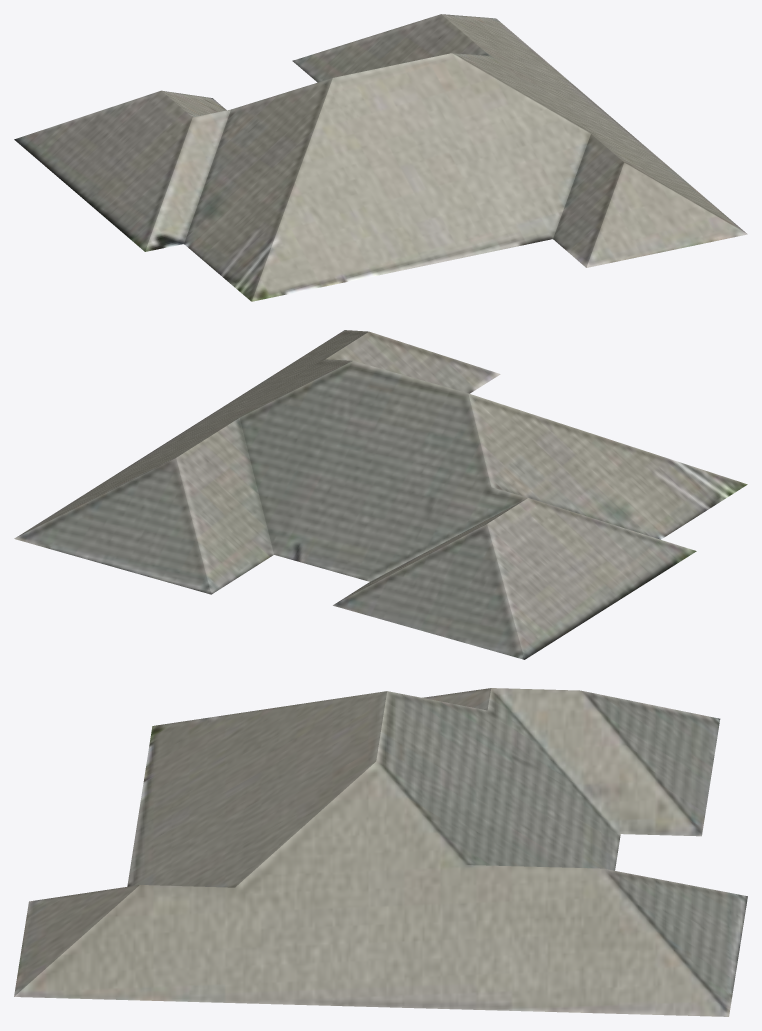
Rendered from CG10_500_048071_0019_roof.obj.
3 views of the same model, one above another, from view 1: azimuth 30°, elevation 25°; view 2: azimuth 150°, elevation 25°; view 3: azimuth 270°, elevation 25° (orthographic). The views are drawn at different scales.
Parts seen in each view (by area): view 1: CG10_500_048071_0019_roof; view 2: CG10_500_048071_0019_roof; view 3: CG10_500_048071_0019_roof.
Part boxes in pixels (left/top/right/bottom): CG10_500_048071_0019_roof: left=14, top=14, right=747, bottom=301; CG10_500_048071_0019_roof: left=14, top=330, right=747, bottom=659; CG10_500_048071_0019_roof: left=14, top=688, right=747, bottom=1016.
Bounding box in the file's own units: 326 × 70 × 328.
1 material, 1 textured.
